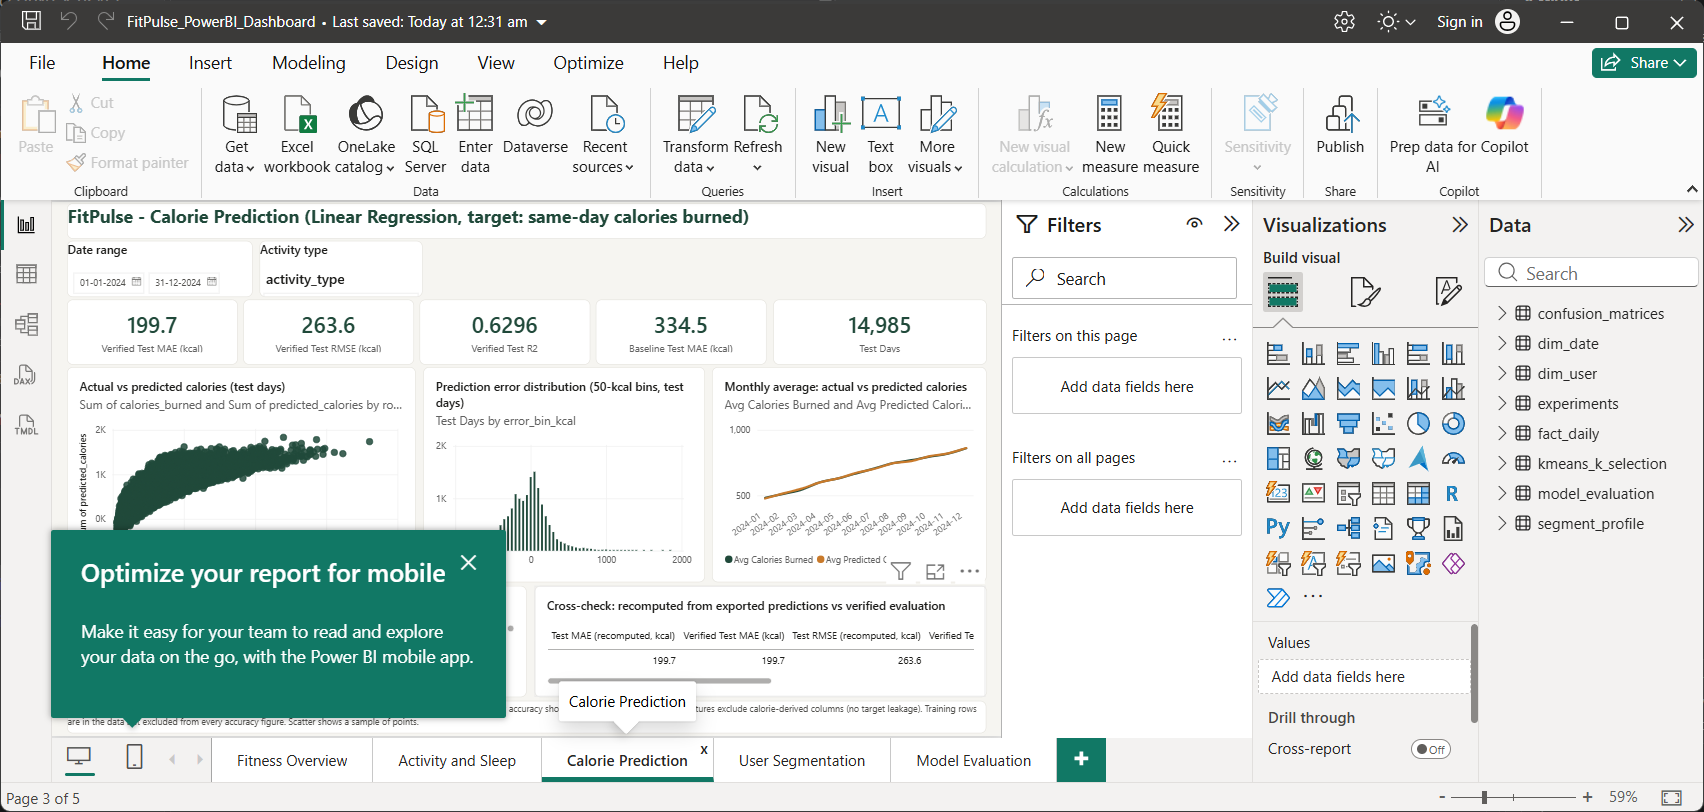

This screenshot's page, from the dashboard's own definition file:
{"tool":"powerbi","page":{"name":"Calorie Prediction","canvas":[1280,720],"ordinal":2},"visuals":[{"type":"textbox","box":[20,2,1240,48],"z":1000},{"type":"slicer","title":"Date range","fields":{"Values":["dim_date.Date"]},"box":[20,52,250,76],"z":2000},{"type":"slicer","title":"Activity type","fields":{"Values":["fact_daily.activity_type"]},"box":[280,52,220,76],"z":3000},{"type":"card","fields":{"Values":["model_evaluation.Verified Test MAE (kcal)"]},"box":[20,132,230,88],"z":4000},{"type":"card","fields":{"Values":["model_evaluation.Verified Test RMSE (kcal)"]},"box":[258,132,230,88],"z":5000},{"type":"card","fields":{"Values":["model_evaluation.Verified Test R2"]},"box":[496,132,230,88],"z":6000},{"type":"card","fields":{"Values":["model_evaluation.Baseline Test MAE (kcal)"]},"box":[734,132,230,88],"z":7000},{"type":"card","fields":{"Values":["fact_daily.Test Days"]},"box":[972,132,288,88],"z":8000},{"type":"scatterChart","title":"Actual vs predicted calories (test days)","fields":{"Category":["fact_daily.row_id"],"X":["Sum(fact_daily.calories_burned)"],"Y":["Sum(fact_daily.predicted_calories)"]},"box":[20,222,470,290],"z":9000},{"type":"clusteredColumnChart","title":"Prediction error distribution (50-kcal bins, test days)","fields":{"Category":["fact_daily.error_bin_kcal"],"Y":["fact_daily.Test Days"]},"box":[500,222,380,290],"z":10000},{"type":"lineChart","title":"Monthly average: actual vs predicted calories","fields":{"Category":["dim_date.YearMonth"],"Y":["fact_daily.Avg Calories Burned","fact_daily.Avg Predicted Calories"]},"box":[890,222,370,290],"z":11000},{"type":"tableEx","title":"Test accuracy by activity type (recomputed from test rows)","fields":{"Values":["fact_daily.activity_type","fact_daily.Test MAE (recomputed, kcal)","fact_daily.Test RMSE (recomputed, kcal)","fact_daily.Test Days"]},"box":[20,518,620,150],"z":12000},{"type":"tableEx","title":"Cross-check: recomputed from exported predictions vs verified evaluation","fields":{"Values":["fact_daily.Test MAE (recomputed, kcal)","model_evaluation.Verified Test MAE (kcal)","fact_daily.Test RMSE (recomputed, kcal)","model_evaluation.Verified Test RMSE (kcal)","fact_daily.Test R2 (recomputed)","model_evaluation.Verified Test R2","fact_daily.Avg Prediction Error (bias, kcal)"]},"box":[650,518,610,150],"z":13000},{"type":"textbox","box":[20,672,1240,44],"z":14000}]}

Visuals, with their boxes on the page's 1280x720 design canvas (x1, y1, x2, y2). These are canvas units, not pixel positions in the 1704x812 screenshot, which may show the page scaled, cropped or inside an application window:
textbox: 20, 2, 1260, 50
"Date range" slicer: 20, 52, 270, 128
"Activity type" slicer: 280, 52, 500, 128
card - model_evaluation.Verified Test MAE (kcal): 20, 132, 250, 220
card - model_evaluation.Verified Test RMSE (kcal): 258, 132, 488, 220
card - model_evaluation.Verified Test R2: 496, 132, 726, 220
card - model_evaluation.Baseline Test MAE (kcal): 734, 132, 964, 220
card - fact_daily.Test Days: 972, 132, 1260, 220
"Actual vs predicted calories (test days)" scatterChart: 20, 222, 490, 512
"Prediction error distribution (50-kcal bins, test days)" clusteredColumnChart: 500, 222, 880, 512
"Monthly average: actual vs predicted calories" lineChart: 890, 222, 1260, 512
"Test accuracy by activity type (recomputed from test rows)" tableEx: 20, 518, 640, 668
"Cross-check: recomputed from exported predictions vs verified evaluation" tableEx: 650, 518, 1260, 668
textbox: 20, 672, 1260, 716
